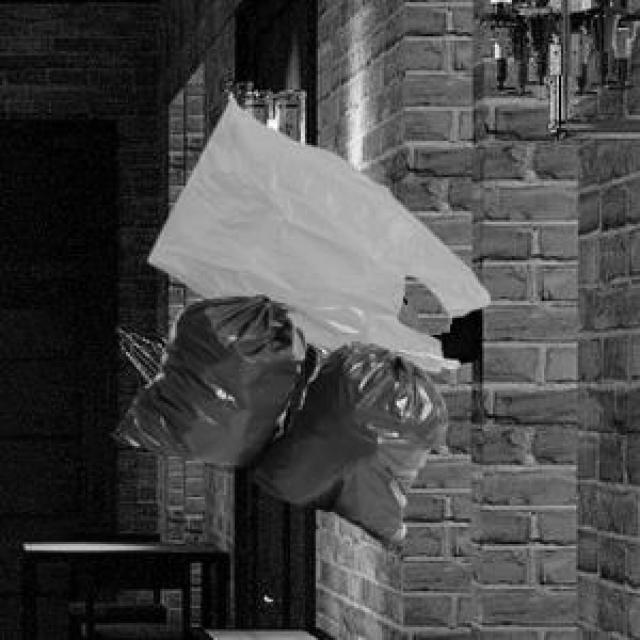miscellaneous trash: (107, 292, 456, 548)
